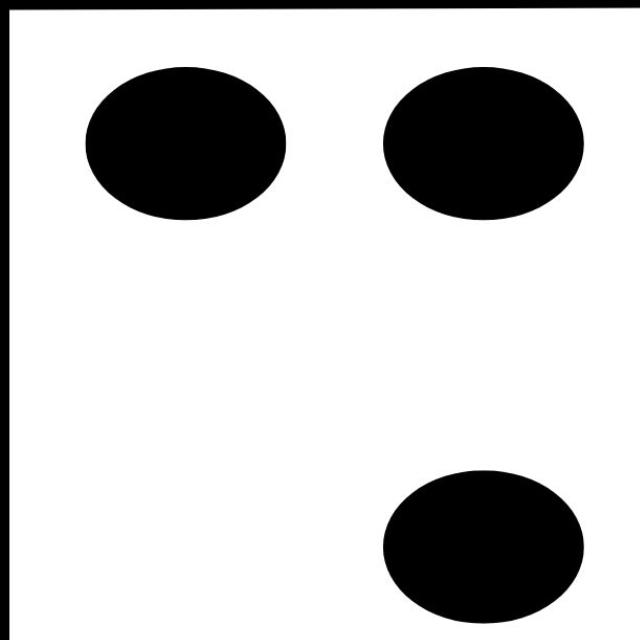one_cell_non_alphabet_maging: (85, 63, 585, 626)
